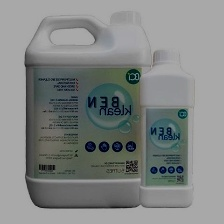cleaning_solution: (20, 8, 153, 211), (136, 46, 199, 212)
